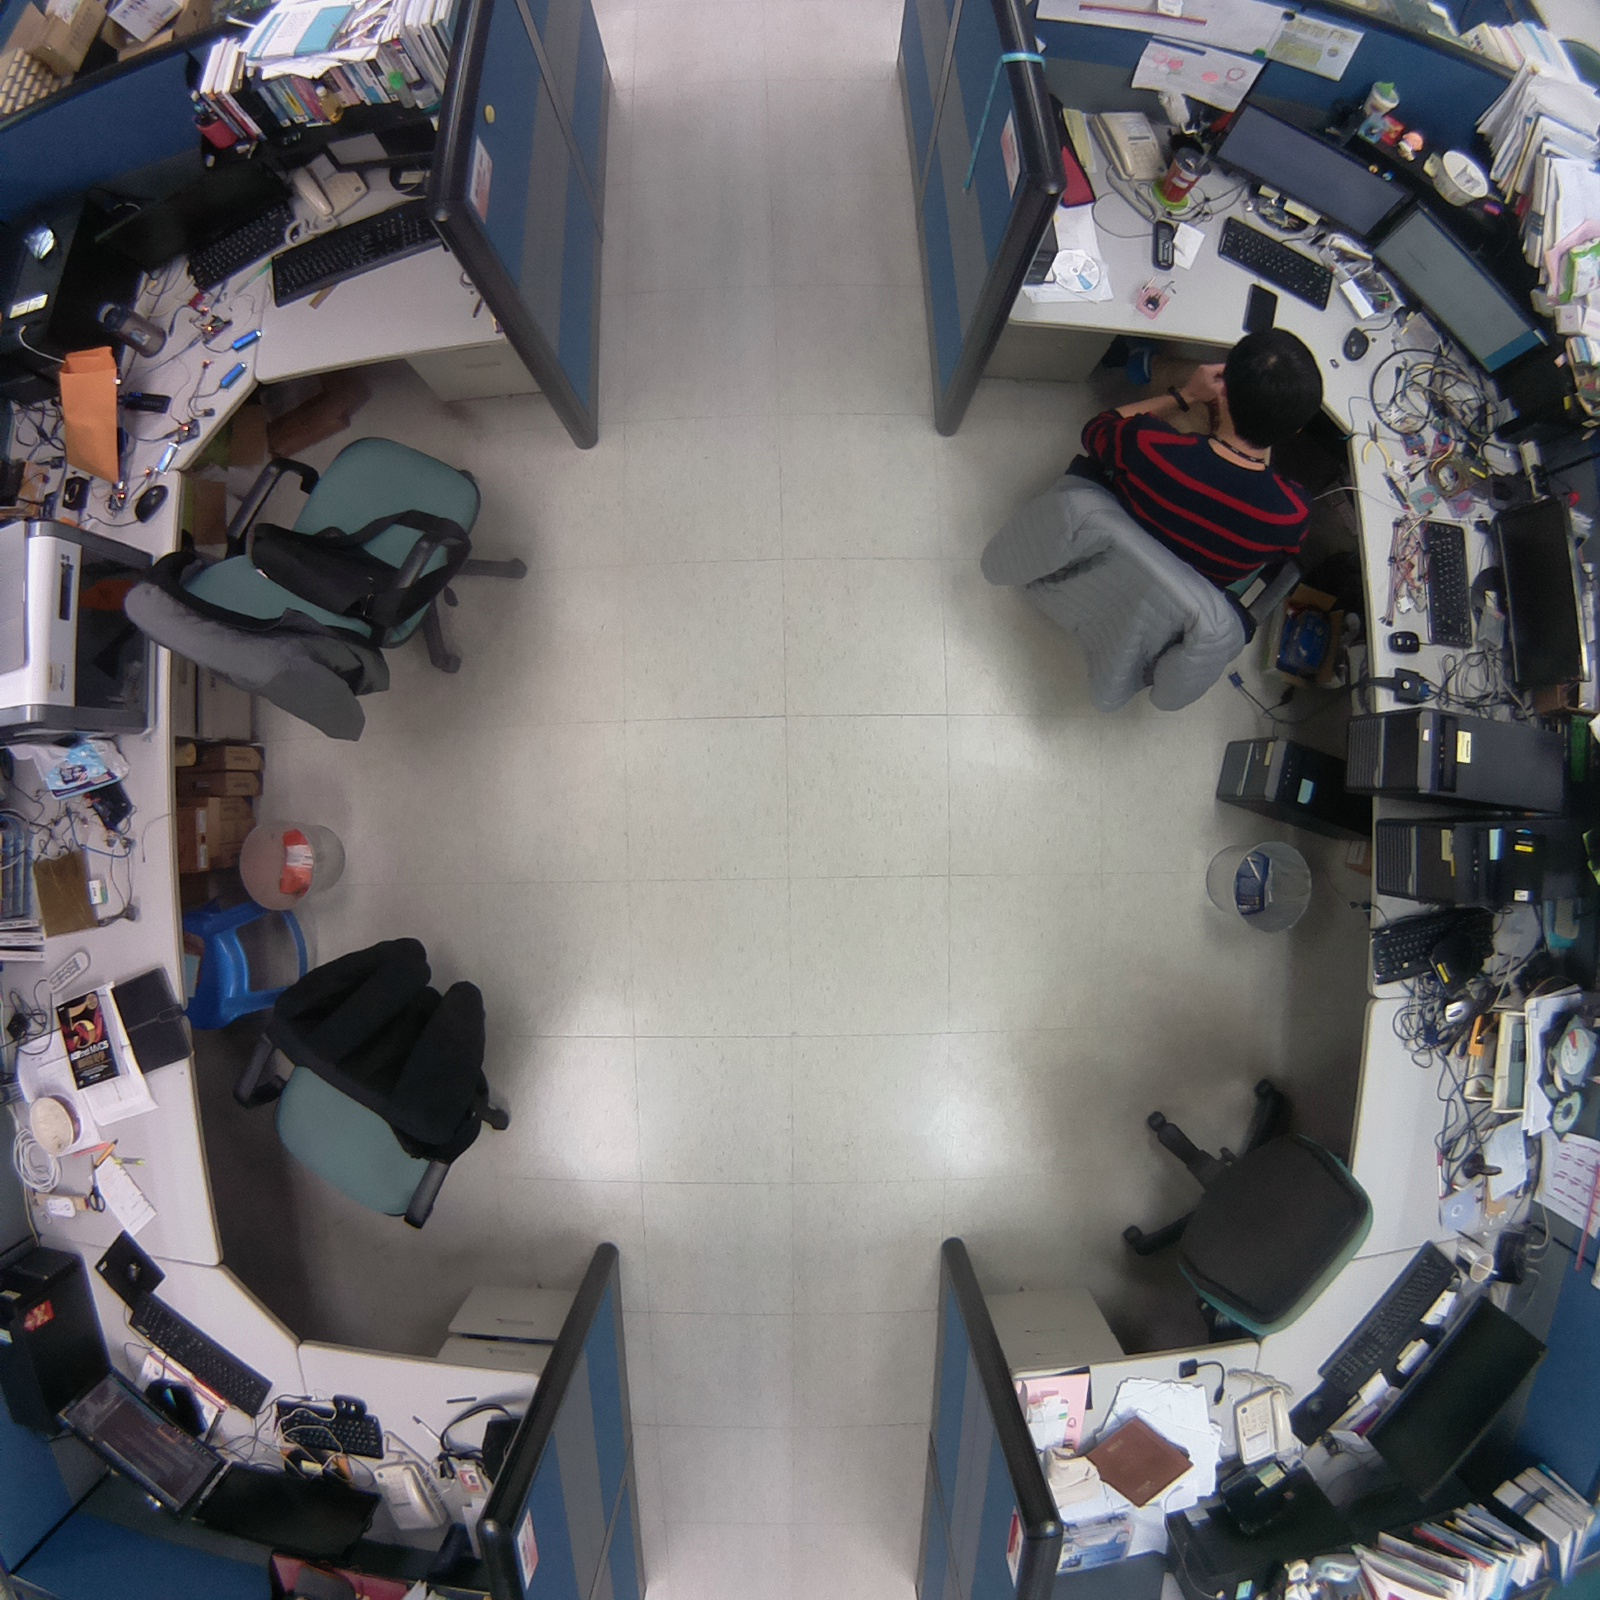chair: (104, 424, 553, 763), (214, 899, 527, 1255), (1106, 1070, 1386, 1370)
head: (1200, 327, 1332, 448)
sitting: (963, 314, 1330, 727)
